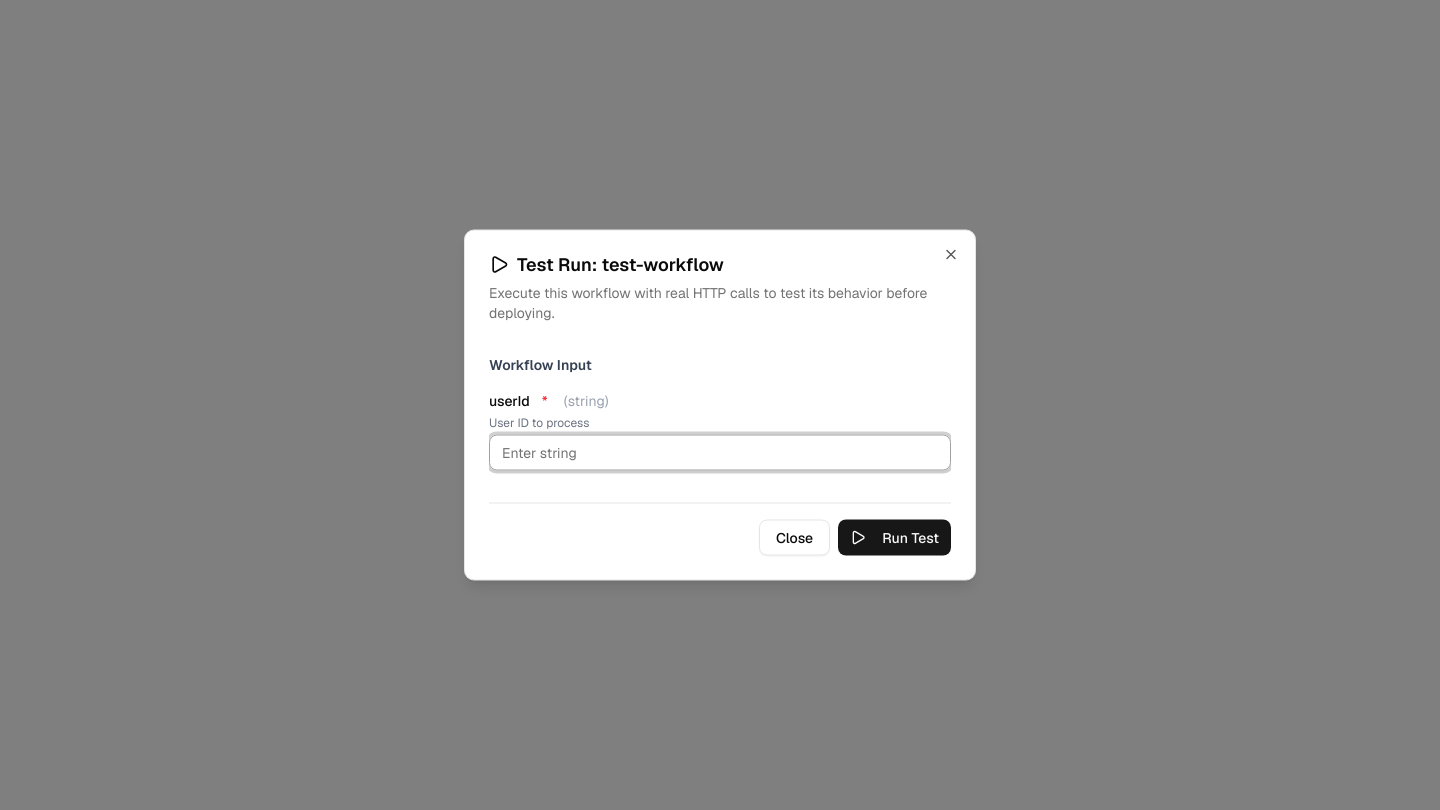
it: TestRunModal › displays success result
# Click run test
Click the button "Run Test" at (895, 538), box [838,520,951,556]
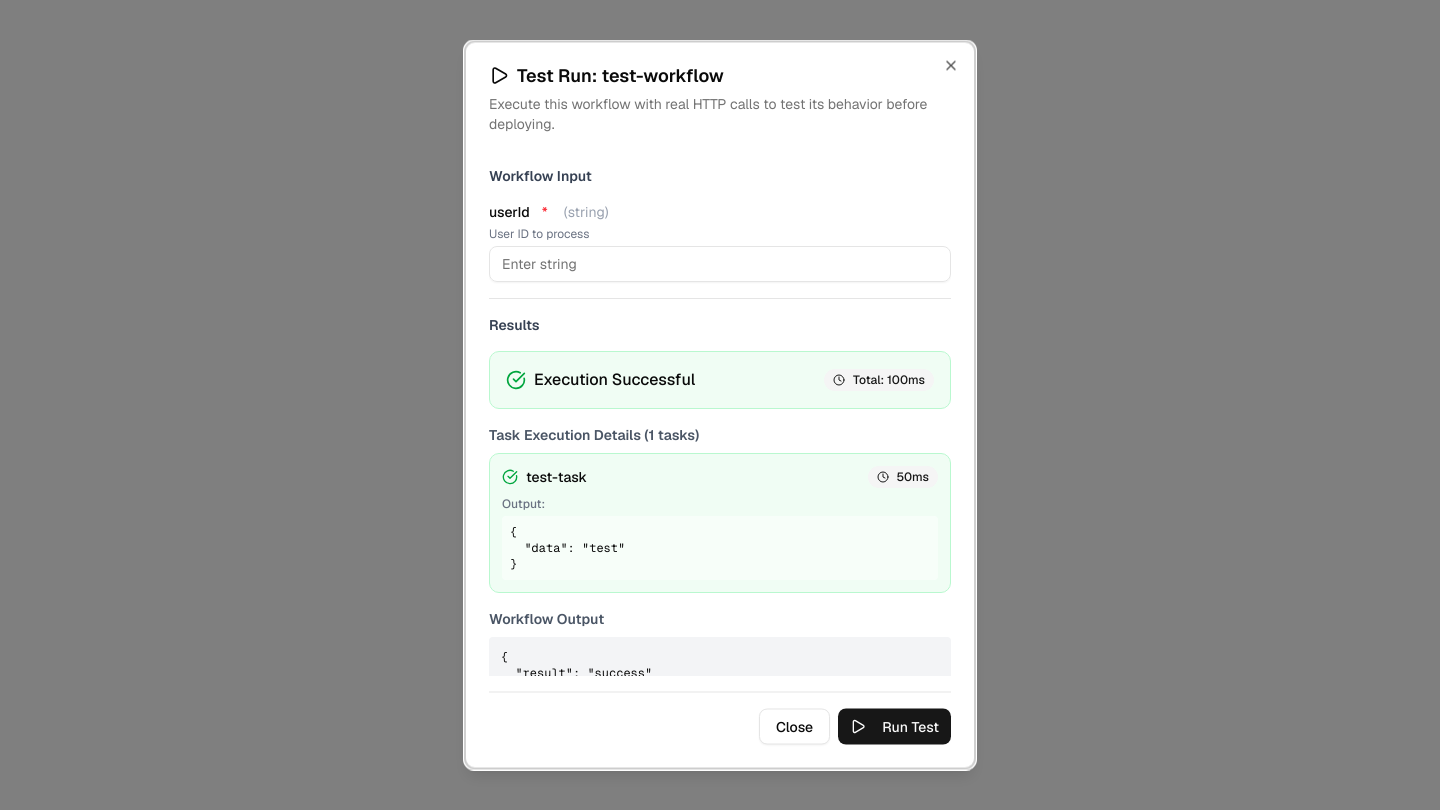
Expected: the text "Execution Successful" is shown, [534,368,695,392]
Expected: the text "Total: 100ms" is shown, [824,368,934,390]
